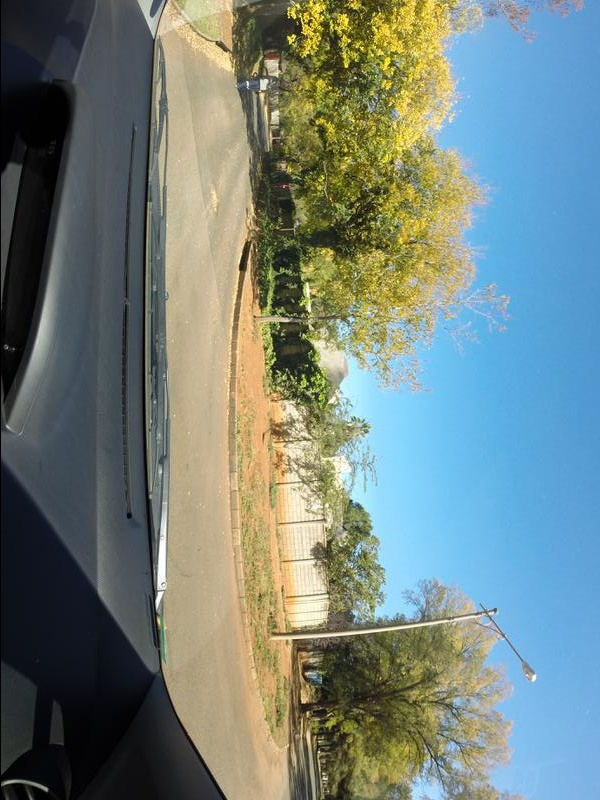pothole: (200, 178, 229, 221)
